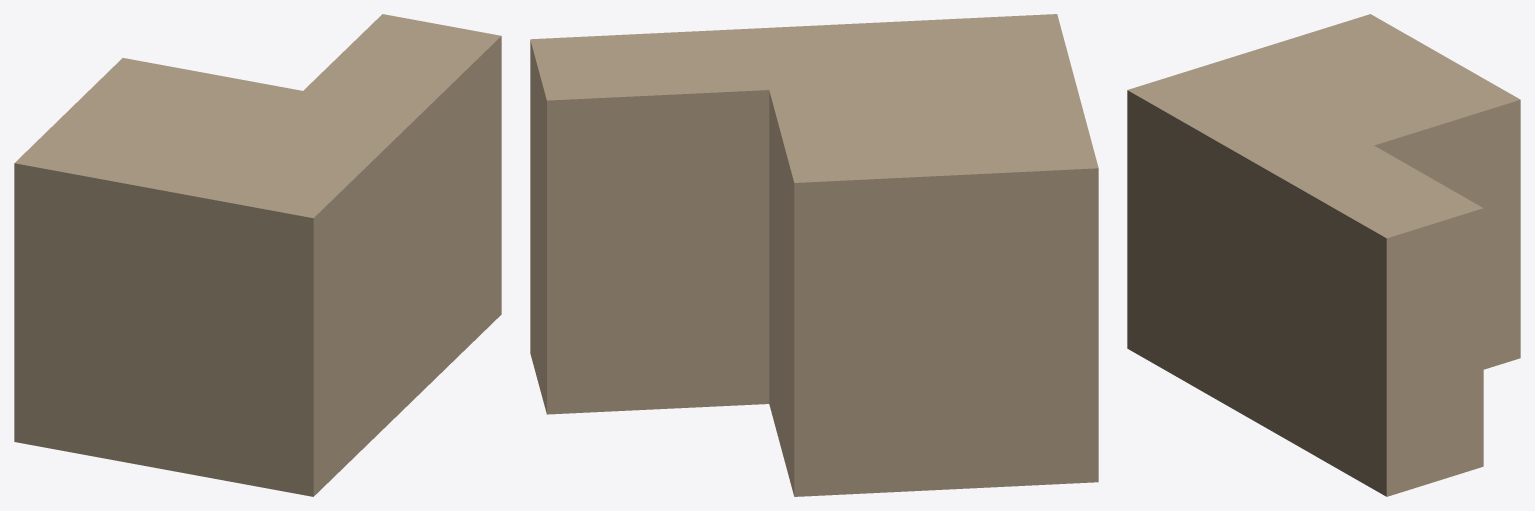
Rendered from bld_106456571.dae.
The picture shows the model from 3 angles, left to right: view 1: azimuth 30°, elevation 25°; view 2: azimuth 150°, elevation 25°; view 3: azimuth 270°, elevation 25°; orthographic projection. The views are drawn at different scales.
Parts seen in each view (by area): view 1: bld_106456571; view 2: bld_106456571; view 3: bld_106456571.
Part boxes in pixels (left/top/right/bottom): bld_106456571: left=14, top=14, right=501, bottom=496; bld_106456571: left=530, top=14, right=1098, bottom=496; bld_106456571: left=1127, top=14, right=1520, bottom=496.
Bounding box in the file's own units: 14.9 × 11.04 × 8.
